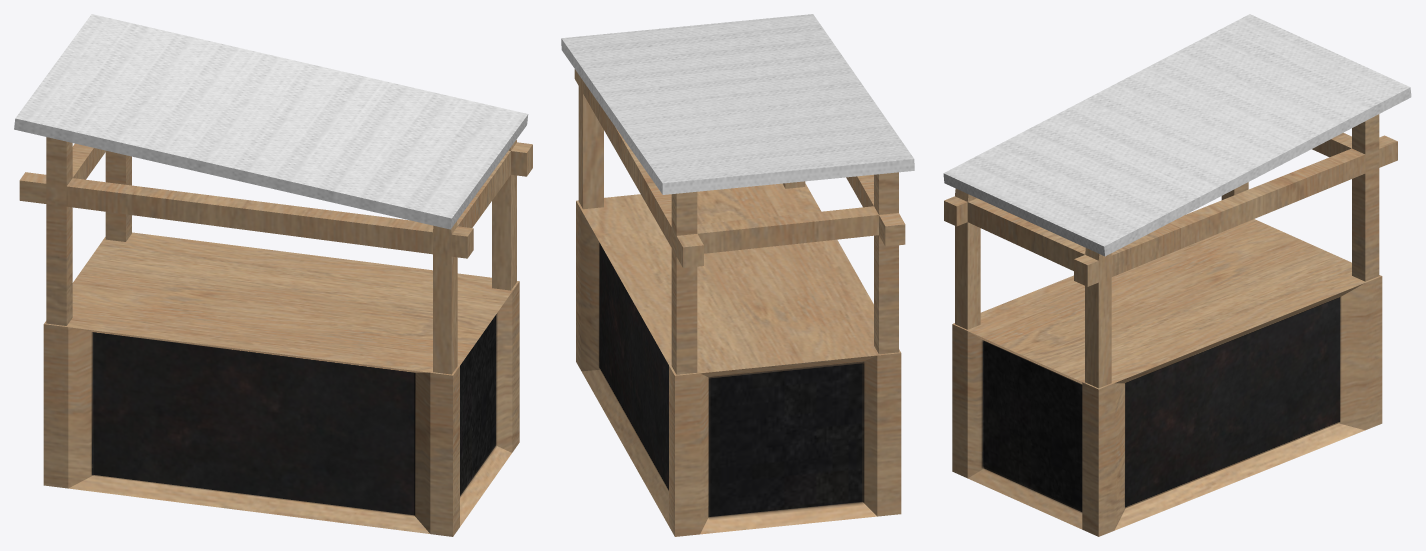
The model's file is stall object.fbx.
3 renders of one model, left to right at view 1: azimuth 30°, elevation 25°; view 2: azimuth 150°, elevation 25°; view 3: azimuth 270°, elevation 25°, orthographic. The views are drawn at different scales.
Parts seen in each view (by area): view 1: stall; view 2: stall; view 3: stall.
Part boxes in pixels (x1=…): stall: x1=14, y1=14, x2=532, y2=536; stall: x1=561, y1=14, x2=914, y2=536; stall: x1=943, y1=14, x2=1411, y2=536.
Size of the model in its own units: 33.7 by 27.18 by 34.42.
